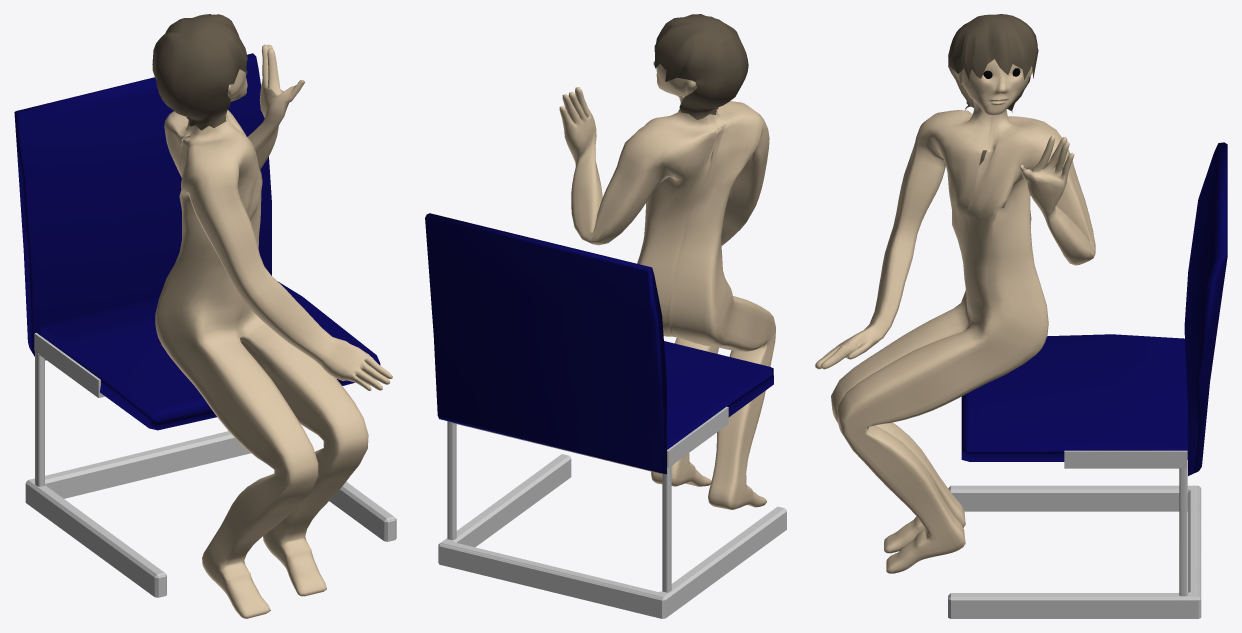
The model's file is lookdoor.fbx.
3 views of the same model, side by side, from view 1: azimuth 30°, elevation 25°; view 2: azimuth 150°, elevation 25°; view 3: azimuth 270°, elevation 25° (orthographic). The views are drawn at different scales.
Visible parts, largest first — view 1: polySurface17, chair_1:polySurface2; view 2: chair_1:polySurface2, polySurface17; view 3: polySurface17, chair_1:polySurface2.
Boxes of the visible parts, x1,y1,x2,y2 form: polySurface17: [152, 14, 392, 618]; chair_1:polySurface2: [14, 53, 396, 597]; chair_1:polySurface2: [425, 213, 786, 618]; polySurface17: [559, 14, 775, 509]; polySurface17: [815, 14, 1095, 573]; chair_1:polySurface2: [948, 142, 1227, 618].
Bounding box in the file's own units: 6.65 × 14.58 × 10.26.
4 materials, 1 textured.
